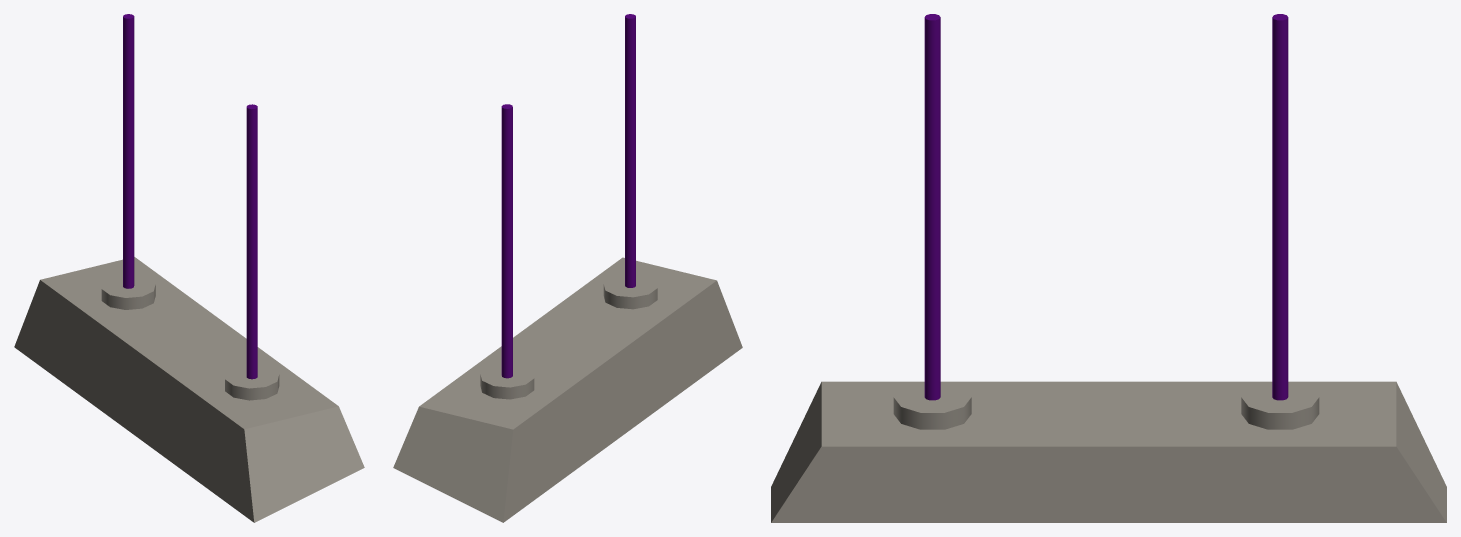
Rendered from lamp.fbx.
The picture shows the model from 3 angles, left to right: view 1: azimuth 30°, elevation 25°; view 2: azimuth 150°, elevation 25°; view 3: azimuth 270°, elevation 25°; orthographic projection. The views are drawn at different scales.
Visible parts, largest first — view 1: Cube.053; view 2: Cube.053; view 3: Cube.053.
Boxes of the visible parts, x1,y1,x2,y2 form: Cube.053: (14,14,364,522); Cube.053: (393,14,742,522); Cube.053: (771,14,1446,522).
Size of the model in its own units: 0.7813 by 2.44 by 2.94.
